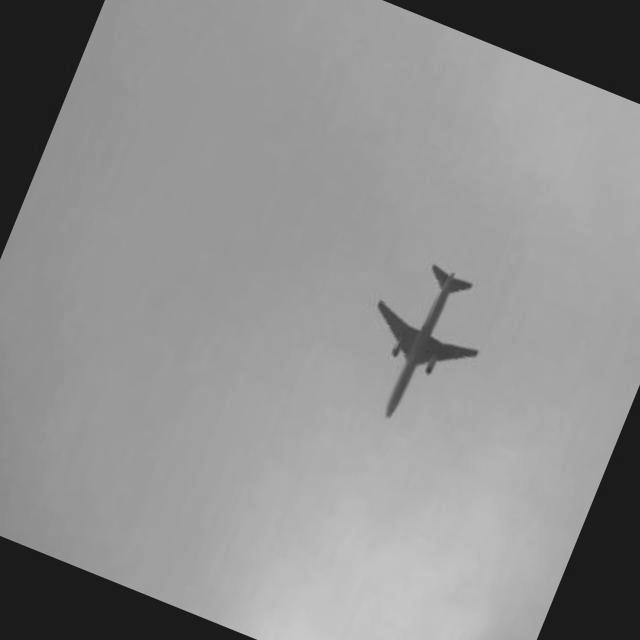aeroplane: (339, 254, 503, 443)
